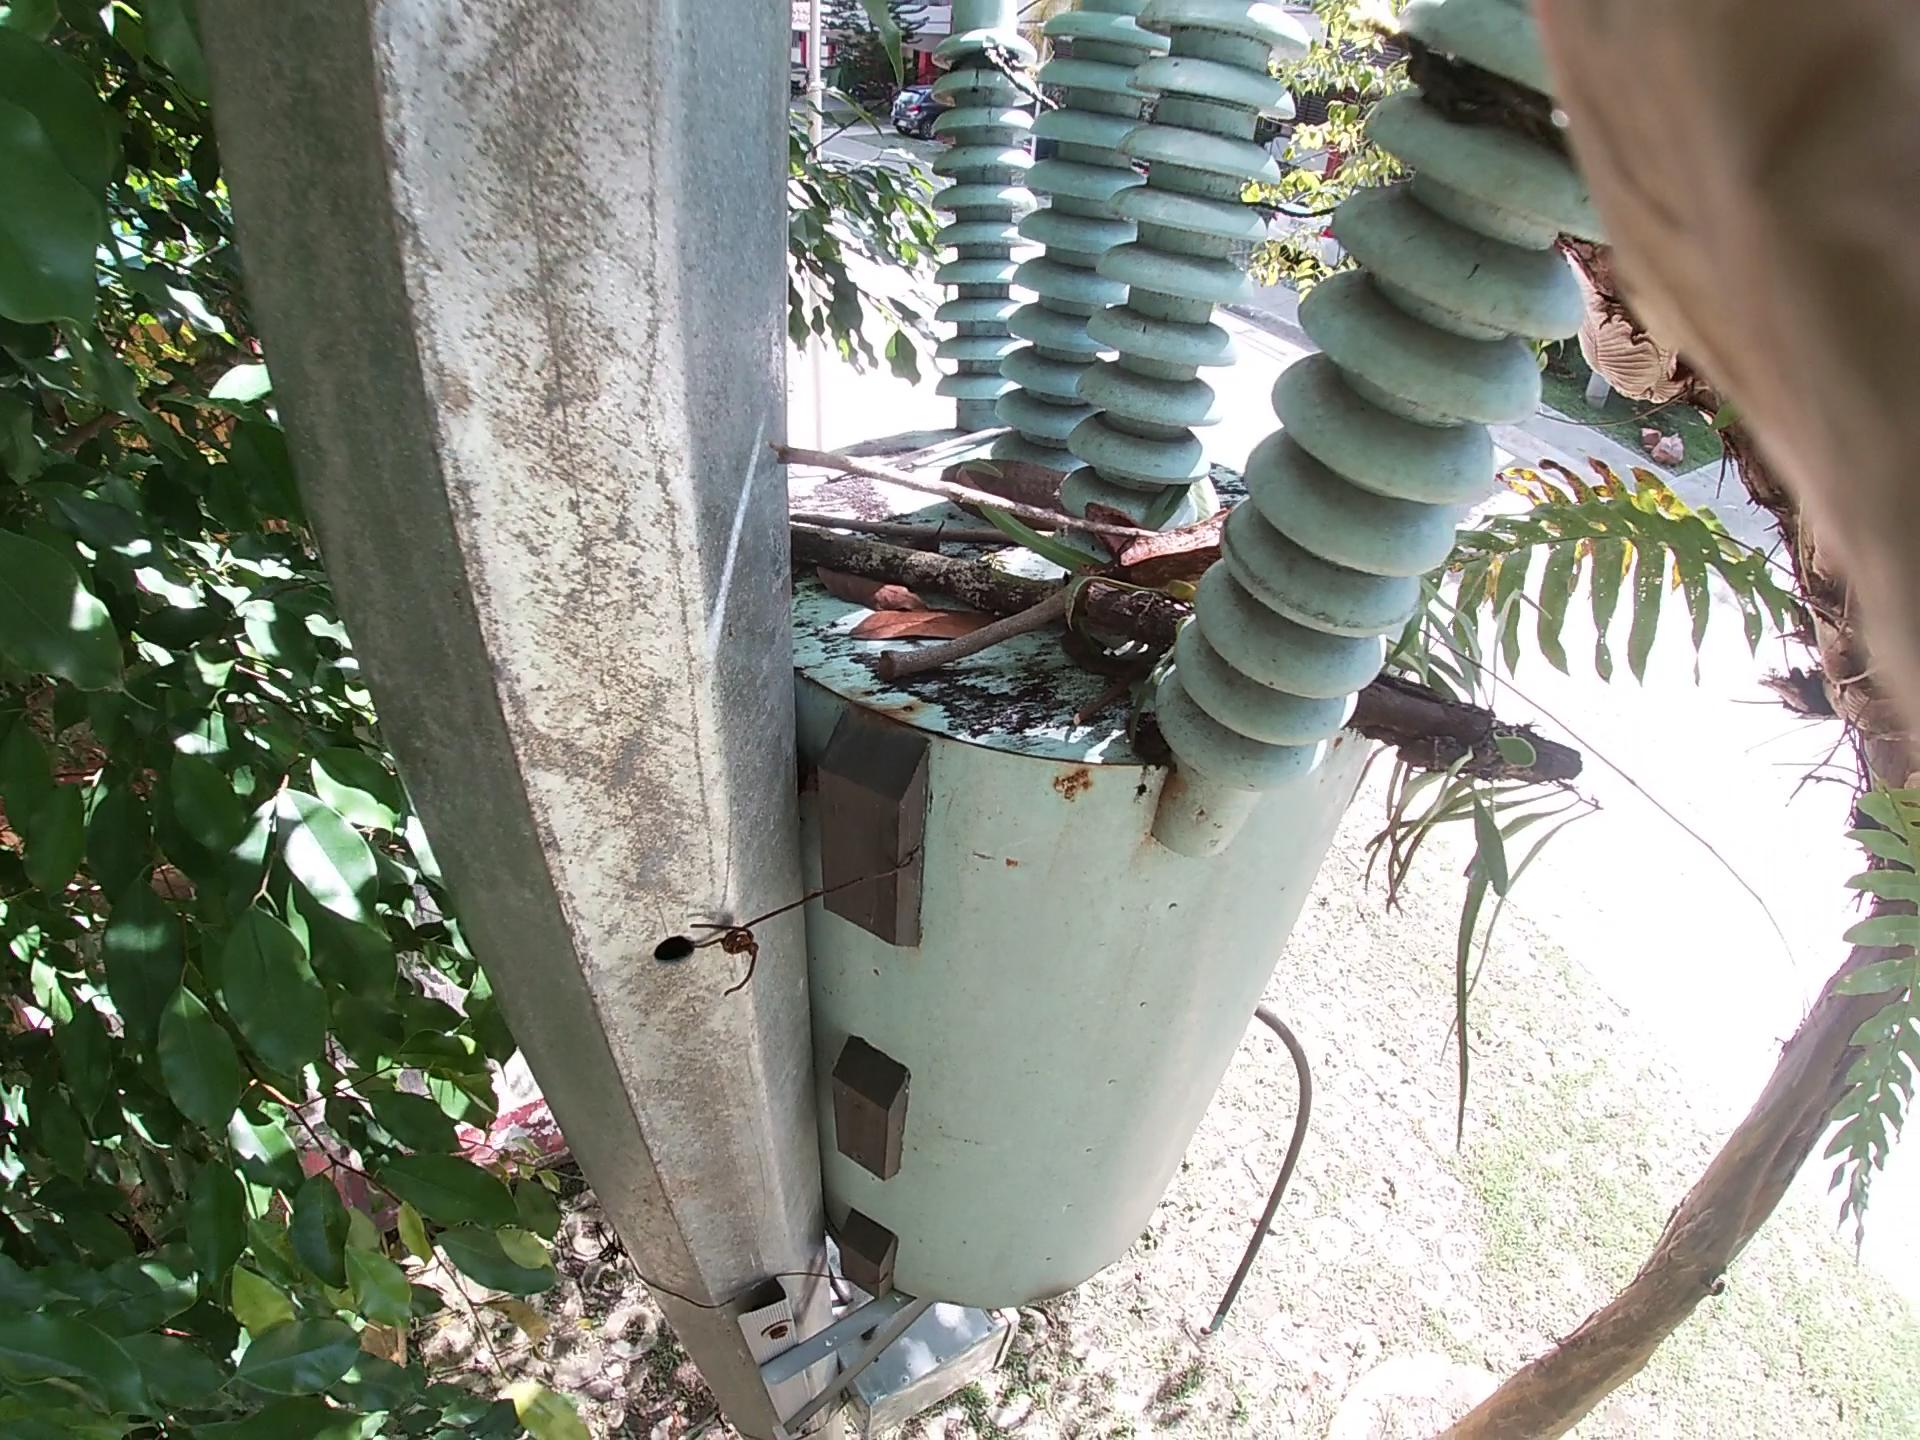branch with leaves: (770, 473, 1634, 836)
leaf: (831, 554, 931, 691)
mahogany fruit: (915, 430, 1147, 555), (1092, 484, 1297, 613)
tree branch: (742, 358, 1890, 1023), (825, 371, 1120, 495), (872, 597, 1092, 743)
